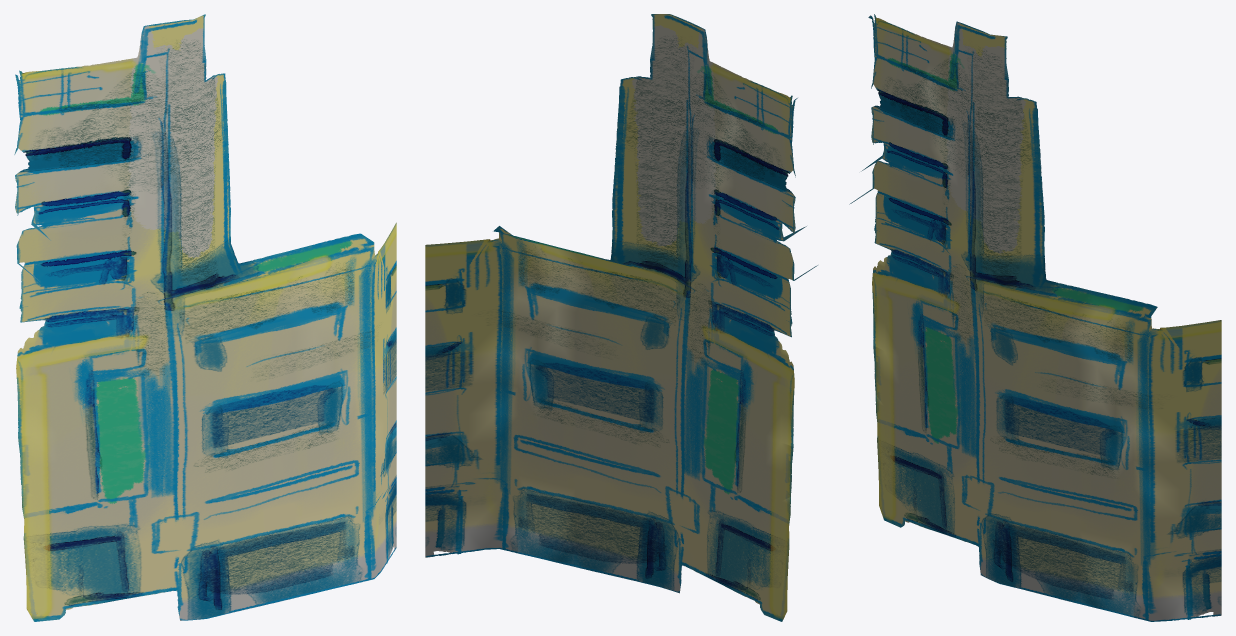
File: house_1.fbx
3 renders of one model, left to right at view 1: azimuth 30°, elevation 25°; view 2: azimuth 150°, elevation 25°; view 3: azimuth 330°, elevation 25°, orthographic. The views are drawn at different scales.
Visible parts, largest first — view 1: mask2; view 2: mask2; view 3: mask2.
Part boxes in pixels (x1,y1,x2,y2): mask2: (14,14,396,621); mask2: (425,14,817,621); mask2: (849,14,1221,621).
Size of the model in its own units: 10.8 by 16.22 by 1.34.
1 material, 1 textured.
